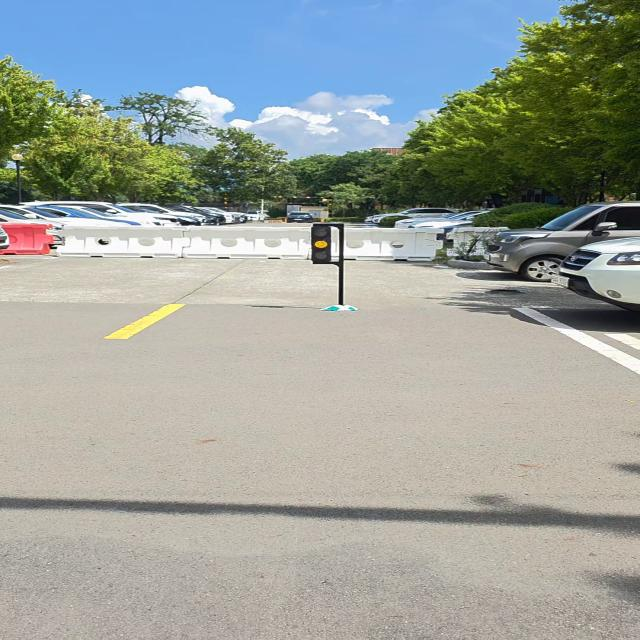yellow: (310, 226, 333, 263)
